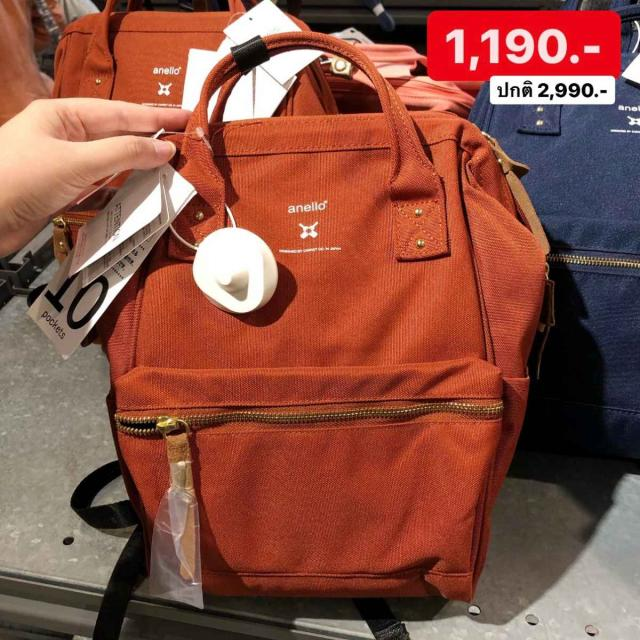bag: (64, 12, 572, 617)
